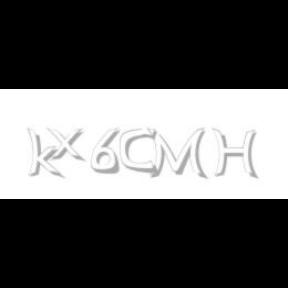6: (90, 128, 119, 176)
C: (120, 128, 156, 174)
H: (212, 128, 258, 180)
M: (146, 128, 206, 180)
k: (26, 128, 64, 180)
x: (47, 128, 89, 162)
